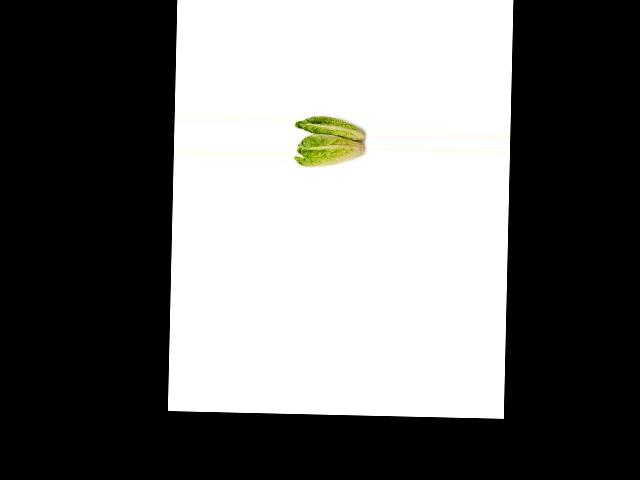lettuce: (293, 108, 370, 142)
